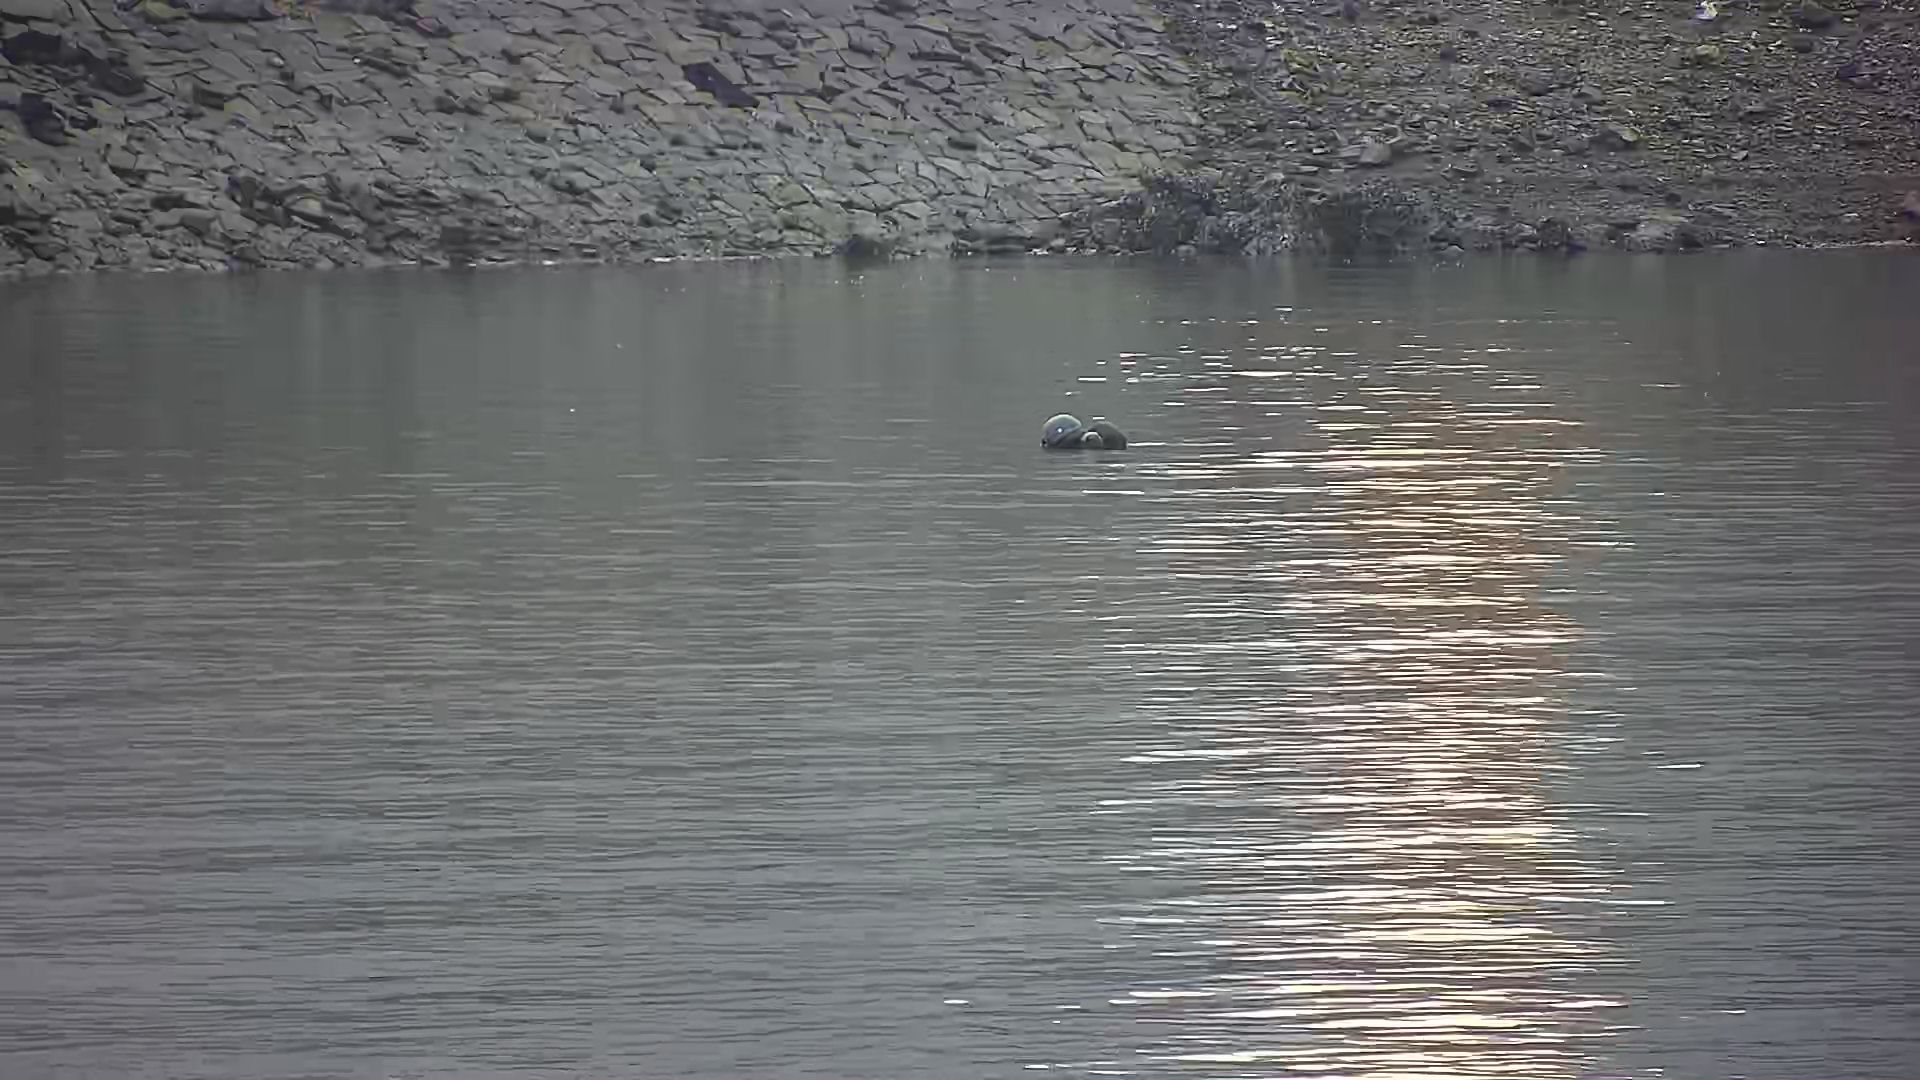rubbish: (1033, 411, 1134, 454)
